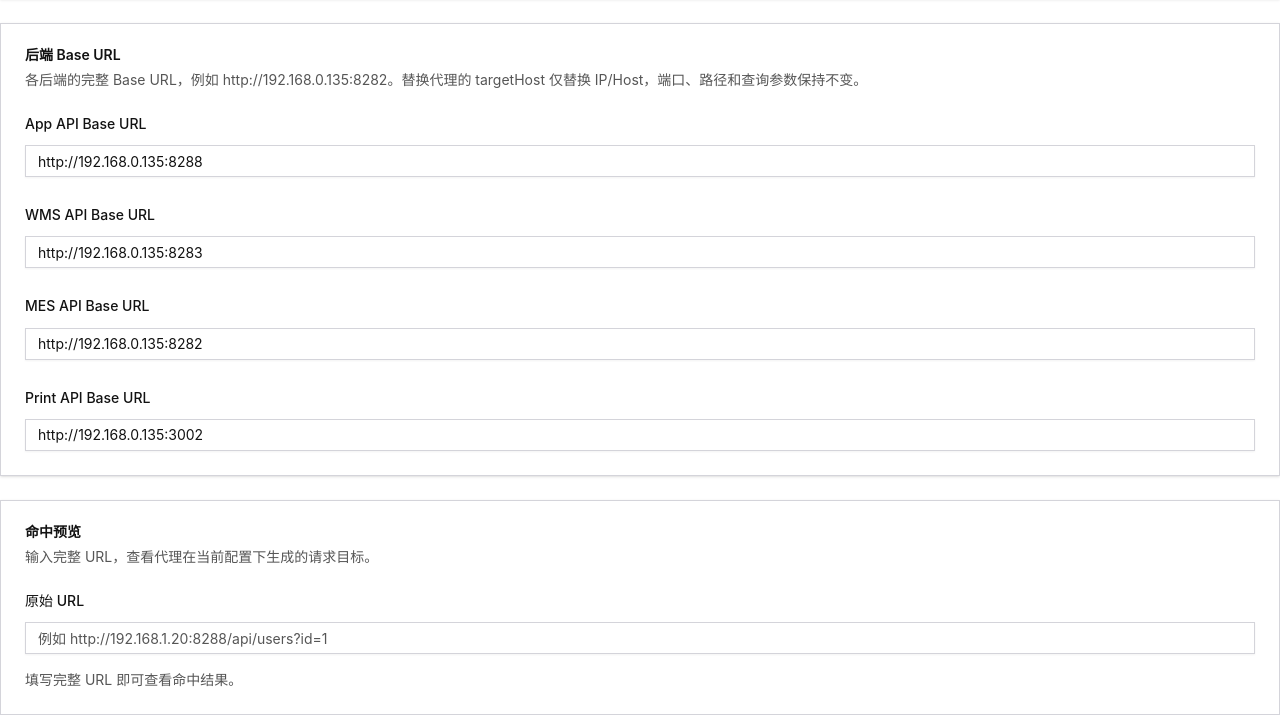
Test: DebugIpRewriteProxyPage › previews IP rewrite without changing the original port
(page scrolled)
Type "http://192.168.1.20:8288/api/users?id=1" into the field labelled "原始 URL" at (640,638), box [25, 622, 1255, 654]
(page scrolled)
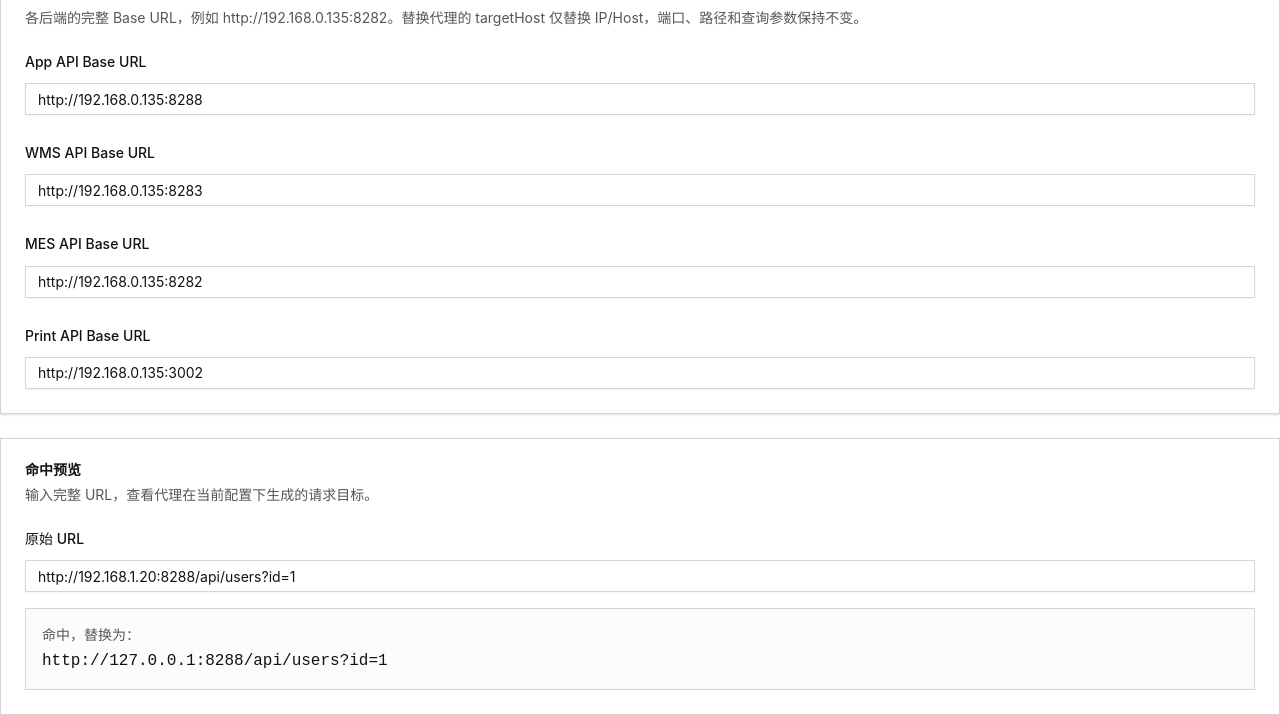
Now the text "http://127.0.0.1:8288/api/users?id=1" is shown, box [42, 652, 388, 670]
